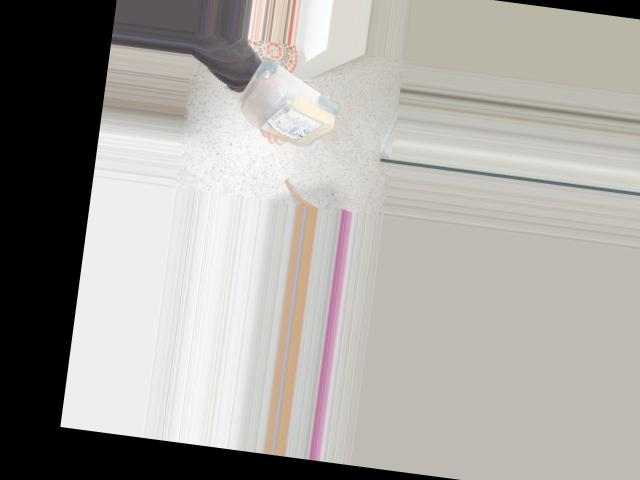cheese: (218, 54, 349, 153)
